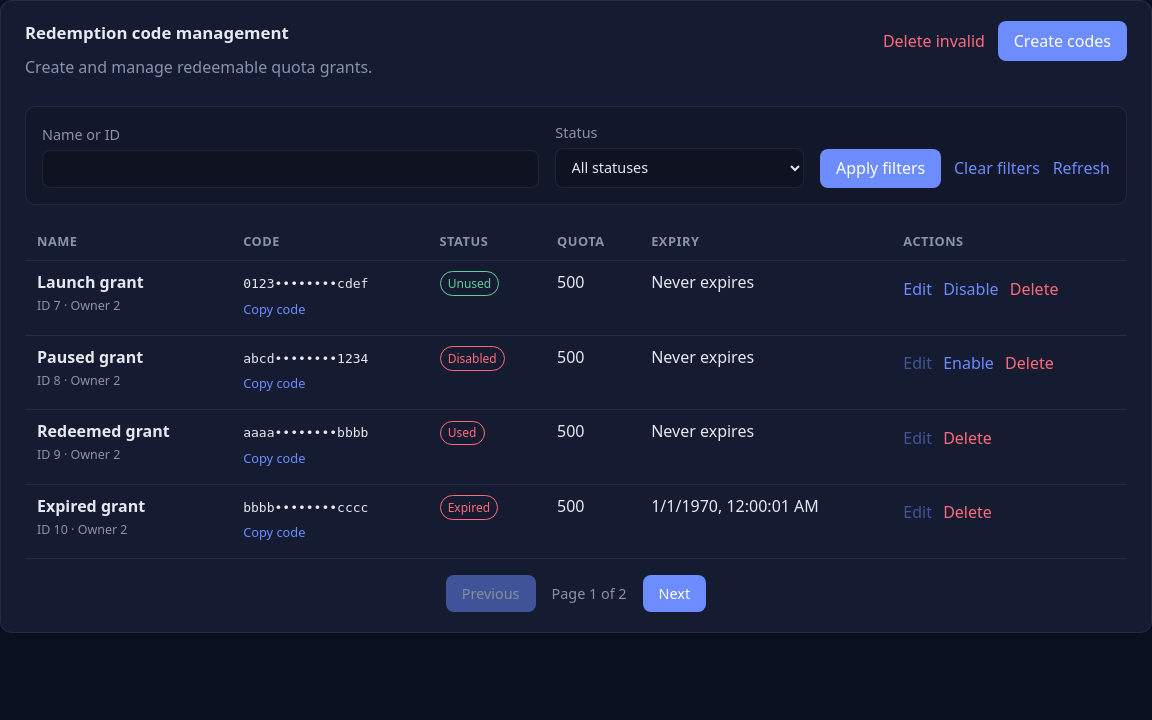
RedemptionAdminView › copies a full code only after an explicit per-row action and never renders it
Click the button "Copy code" below "0123••••••••cdef".
click(274, 309)  # box [243,293,306,324]
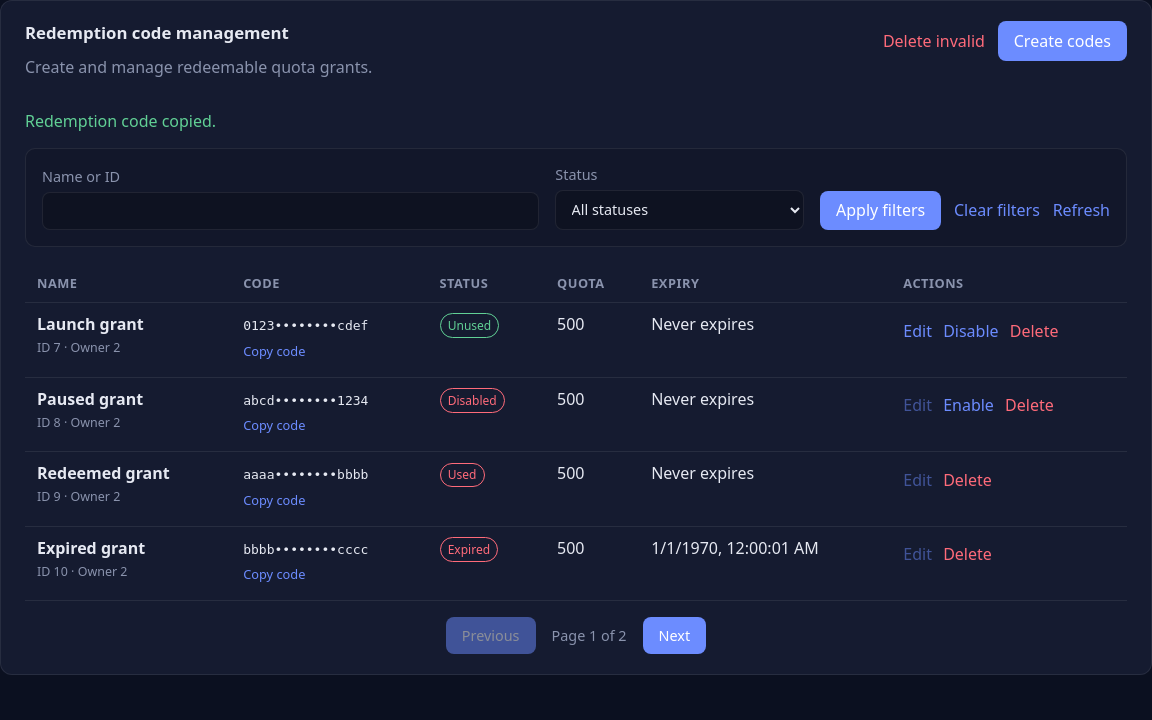
expect the message reads "Redemption code copied.": met, box [25,110,216,132]
